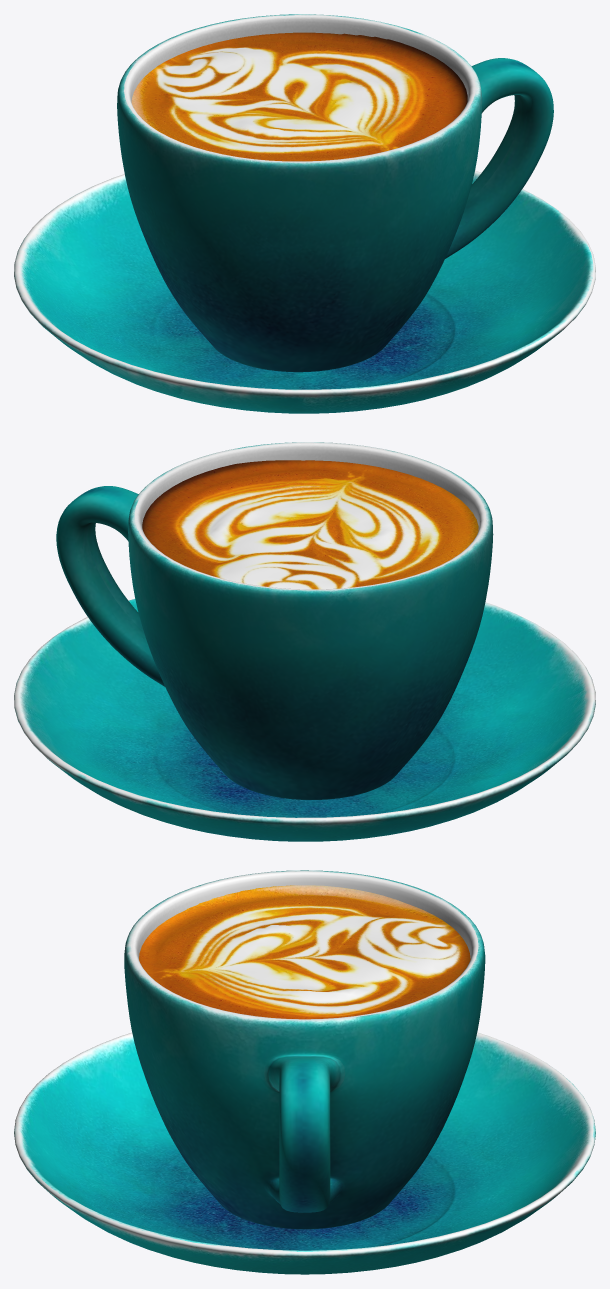
The model's file is coffee.glb.
3 views of the same model, one above another, from view 1: azimuth 30°, elevation 25°; view 2: azimuth 150°, elevation 25°; view 3: azimuth 270°, elevation 25° (orthographic).
Visible parts, largest first — view 1: cup, plate, coffee; view 2: cup, plate, coffee; view 3: cup, plate, coffee.
Part boxes in pixels (box(x1,y1,x2,y2)): cup: box(117, 14, 553, 372); plate: box(14, 170, 595, 413); coffee: box(131, 32, 467, 161); cup: box(56, 442, 493, 799); plate: box(14, 599, 595, 841); coffee: box(142, 460, 478, 589); cup: box(124, 870, 485, 1229); plate: box(14, 1032, 595, 1274); coffee: box(139, 885, 470, 1019).
Bounding box in the file's own units: 0.1525 × 0.0729 × 0.1525.
3 materials, 3 textured.
